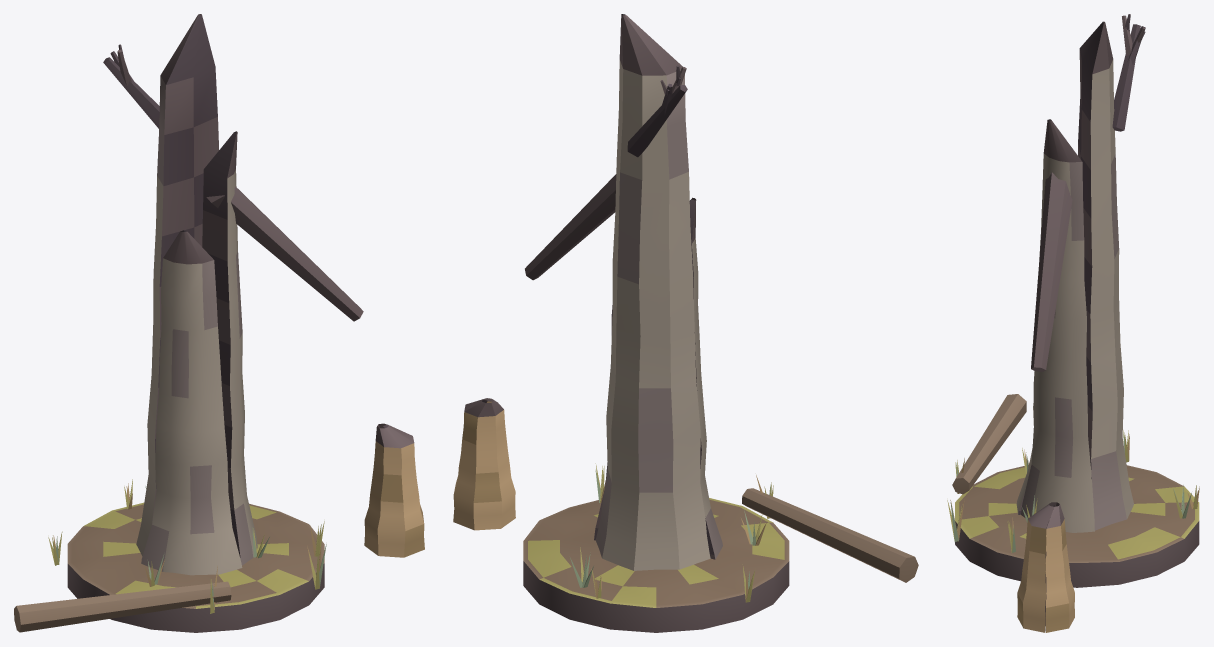
File: nash_shattered_trees_v3.glb
The picture shows the model from 3 angles, left to right: view 1: azimuth 30°, elevation 25°; view 2: azimuth 150°, elevation 25°; view 3: azimuth 270°, elevation 25°; orthographic projection. The views are drawn at different scales.
Visible parts, largest first — view 1: Body; view 2: Body; view 3: Body.
Part boxes in pixels (x1,y1,x2,y2): Body: (14, 14, 424, 632); Body: (453, 14, 918, 632); Body: (947, 14, 1199, 632).
Bounding box in the file's own units: 0.6029 × 0.744 × 0.3272.
